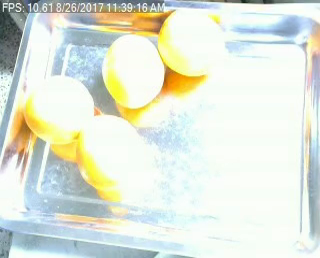Orange: (22, 77, 93, 144)
